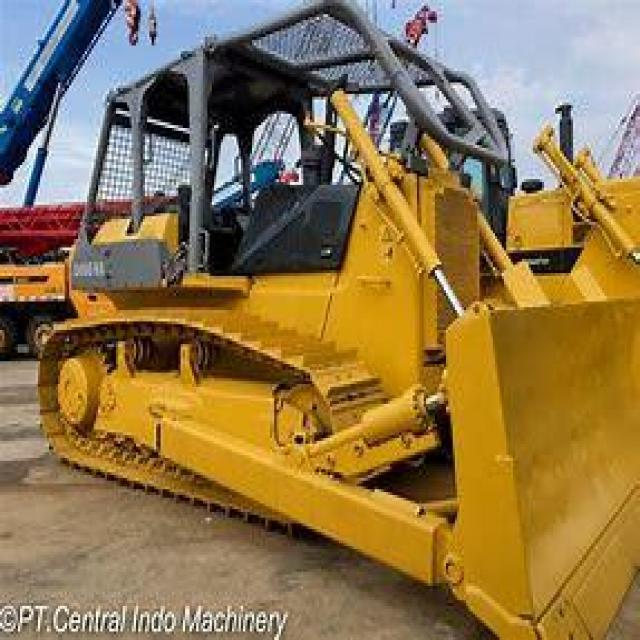Bulldozer: (31, 3, 638, 637)
